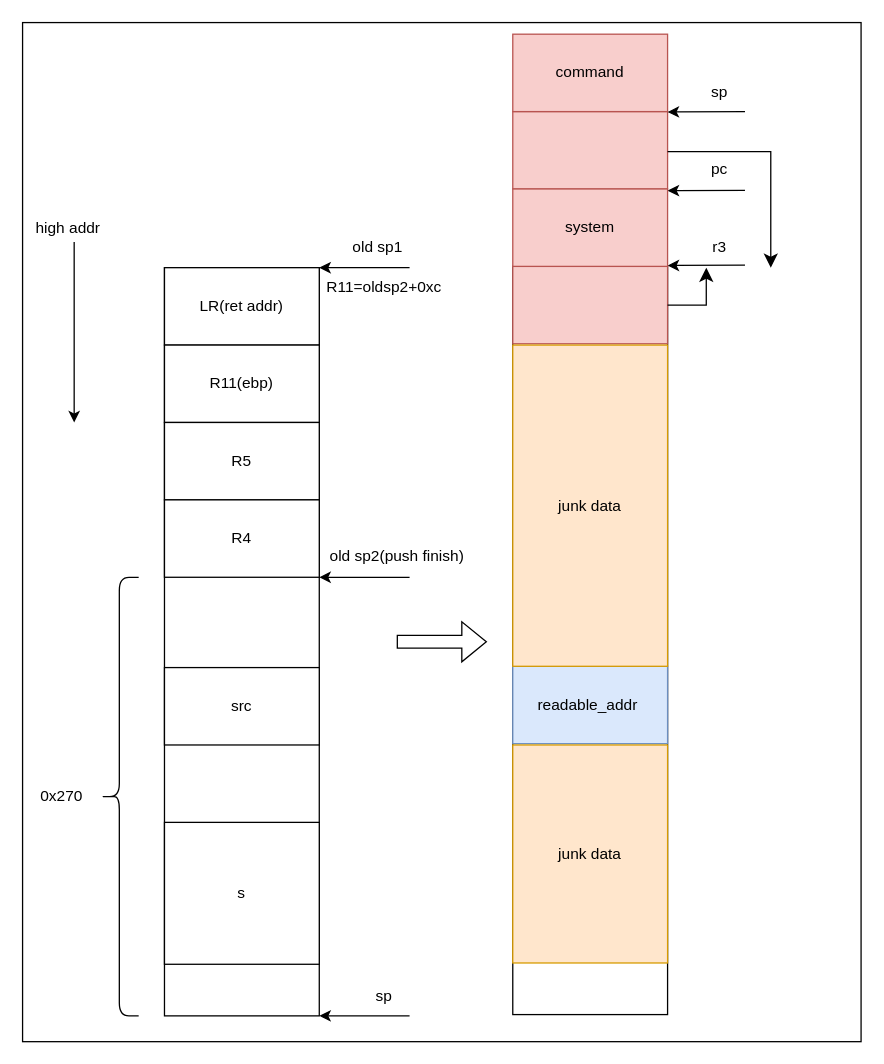
Some shapes in this 884 by 1064 pixel diagram are drawn without their labels. The centre of each missing label's shape, as x and y in pixels:
"mov r0 , sp ; blx r3" goes at (x=589, y=149).
"pop {r3, pc}" goes at (x=589, y=304).
